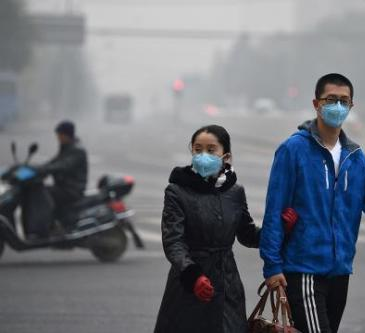motorbike: (1, 139, 135, 263)
person: (152, 122, 297, 333), (259, 72, 365, 333), (34, 120, 89, 234)
